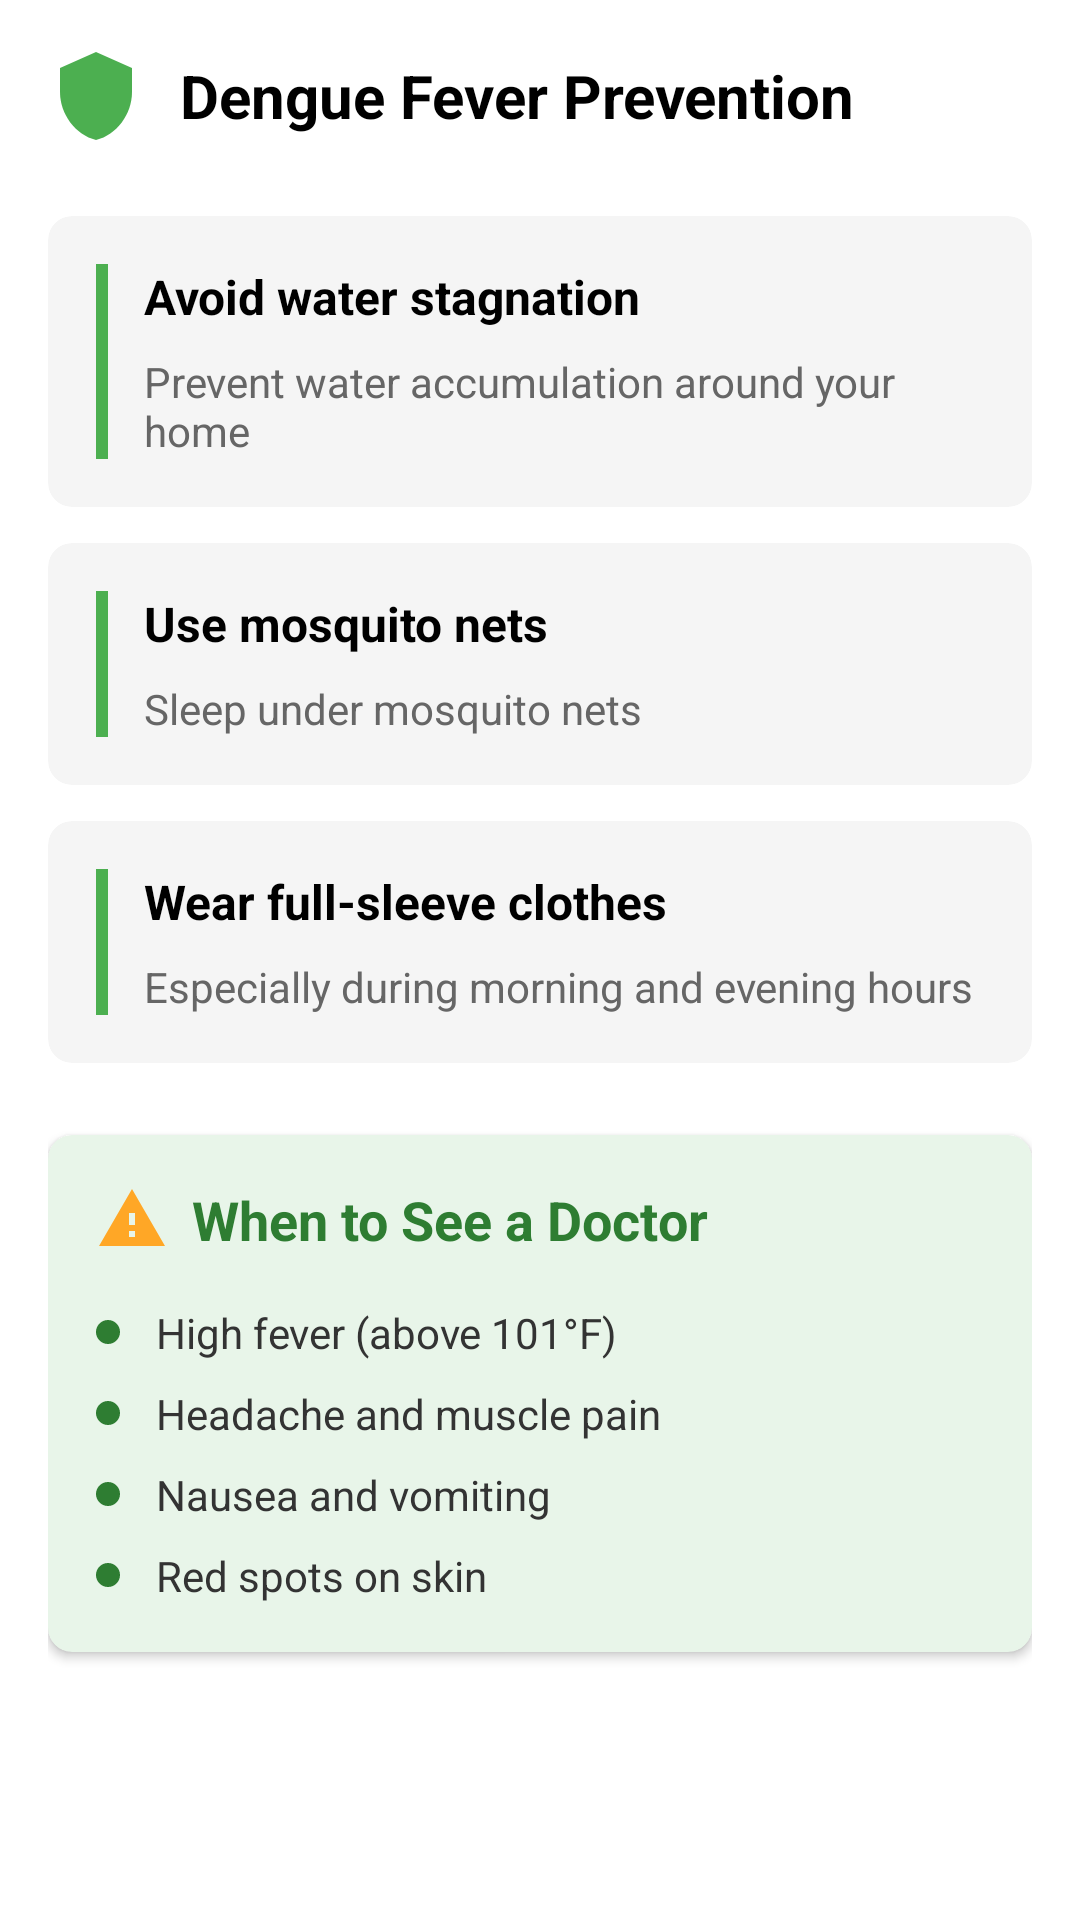

Icon click points for this 1080 × 1920 phone screenshot, format [x,y]:
shield: [96,96]
warning: [132,1217]
